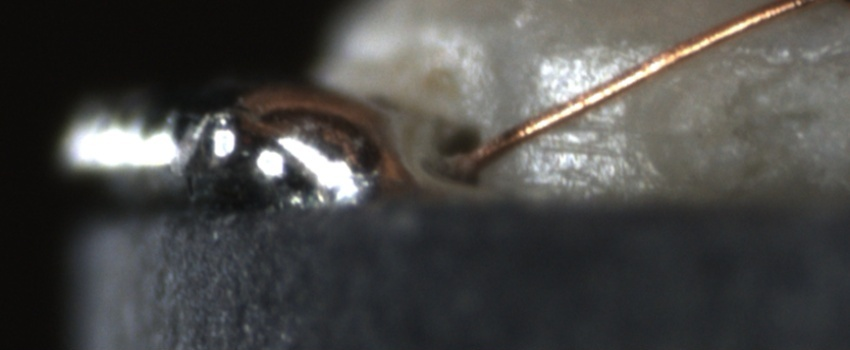DL: (568, 23, 850, 80), (529, 105, 650, 160)
